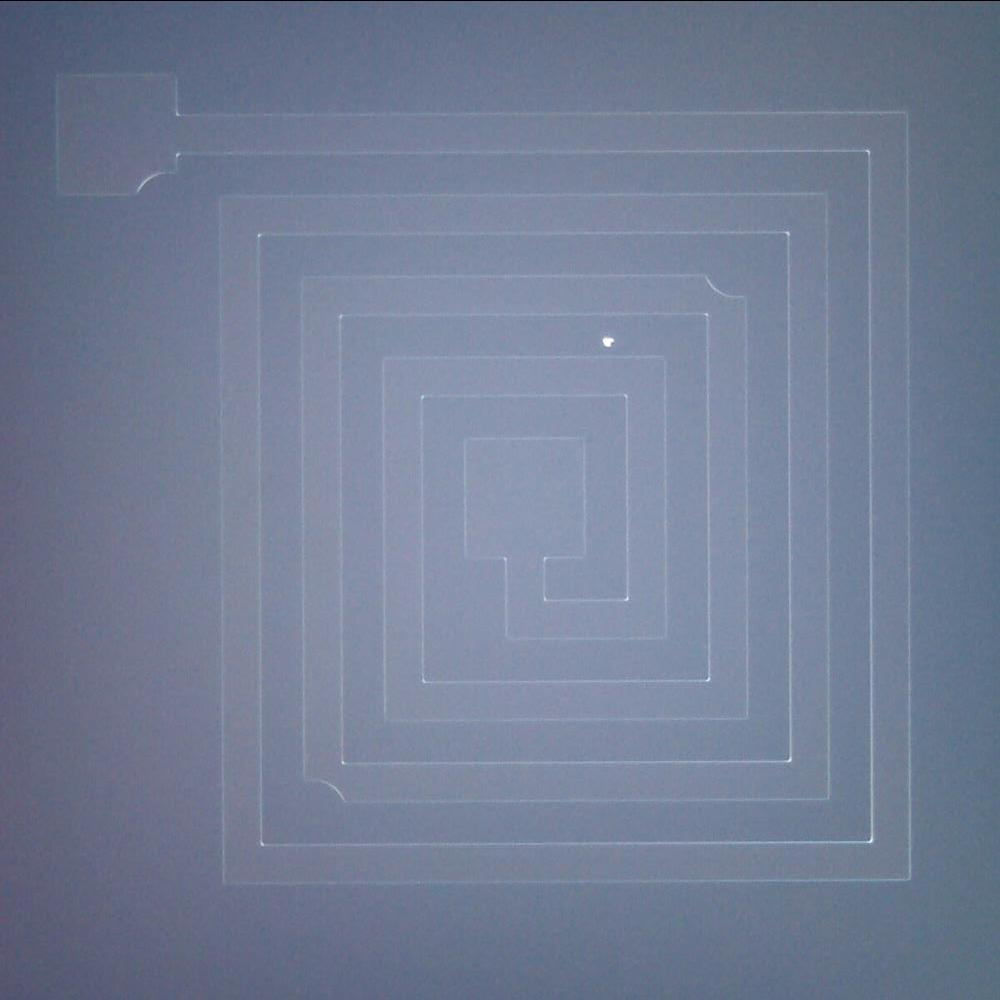curve circuit: (292, 769, 352, 816), (128, 162, 192, 205), (692, 265, 759, 306)
spot: (593, 329, 620, 353)
